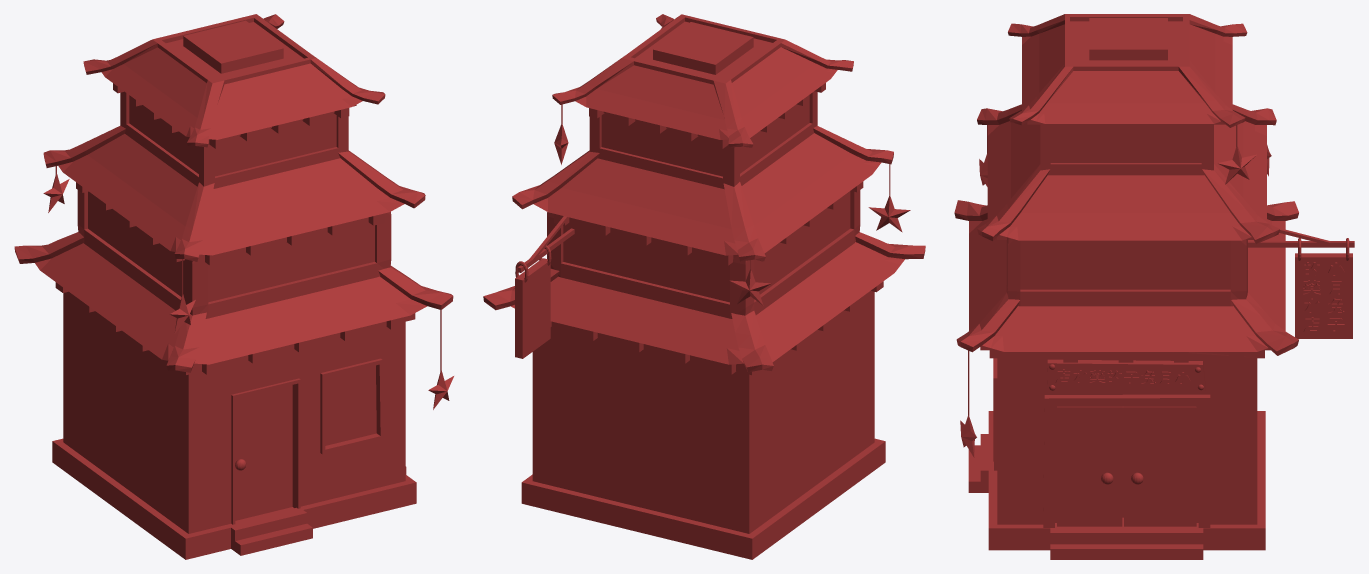
The model's file is huis textured 2.fbx.
The picture shows the model from 3 angles, left to right: view 1: azimuth 30°, elevation 25°; view 2: azimuth 150°, elevation 25°; view 3: azimuth 270°, elevation 25°; orthographic projection. The views are drawn at different scales.
Parts seen in each view (by area): view 1: huis_2_verdieping_4; view 2: huis_2_verdieping_4; view 3: huis_2_verdieping_4, Cap_1, Cap_1_2.
Boxes of the visible parts, bbox=[...] form: huis_2_verdieping_4: bbox=[14, 14, 453, 559]; huis_2_verdieping_4: bbox=[483, 14, 925, 559]; huis_2_verdieping_4: bbox=[954, 14, 1354, 559]; Cap_1: bbox=[1303, 262, 1344, 332]; Cap_1_2: bbox=[1056, 370, 1190, 385].
Bounding box in the file's own units: 9.51 × 13.69 × 10.85.
